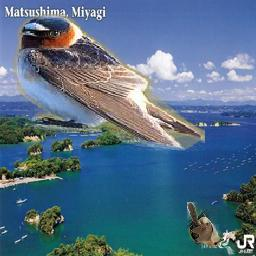Cuckoo: (188, 203, 225, 248)
Swallow: (13, 14, 205, 152)
